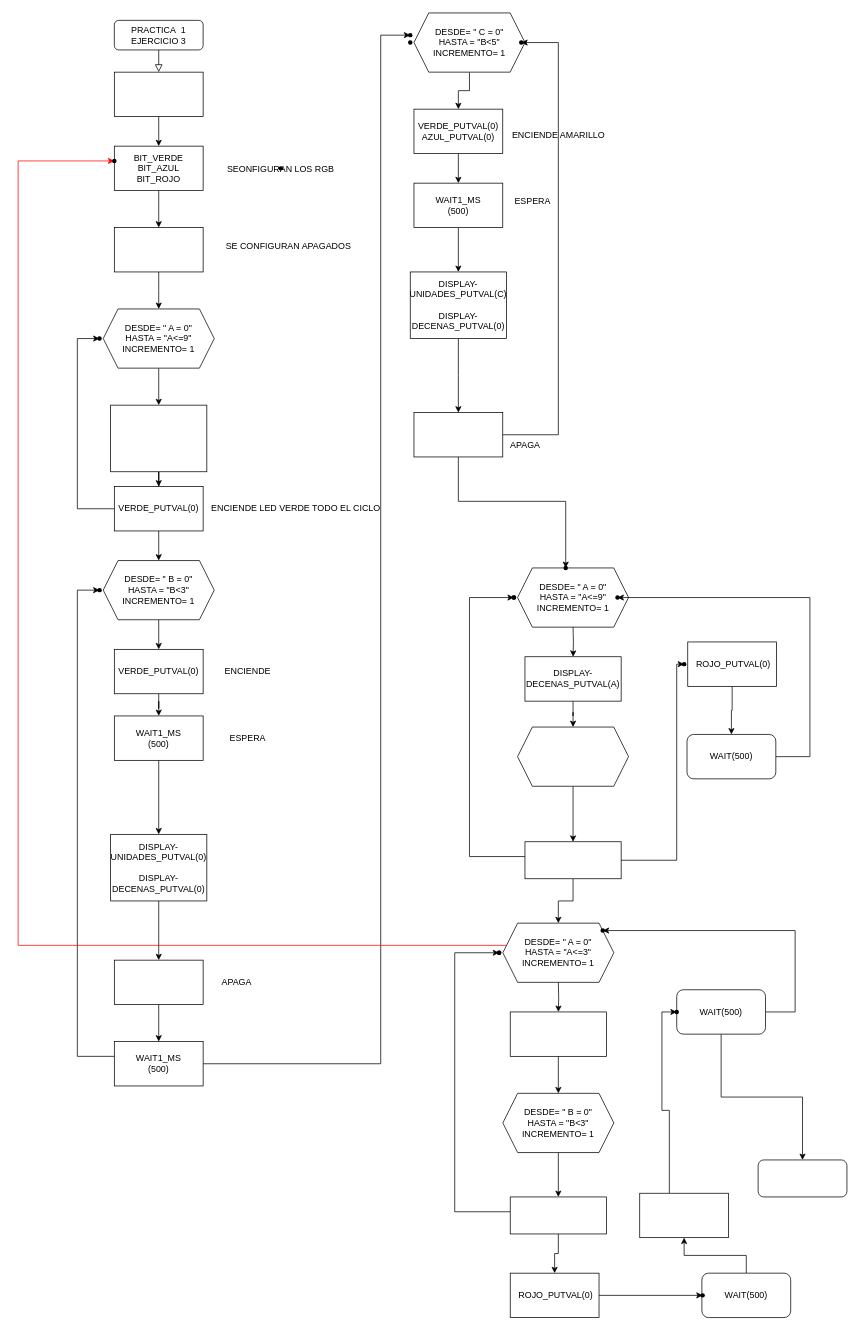
Some shapes in this 860 by 1331 pixel diagram are drawn without their labels. The shapes that lost their labels are listed below. From the top down, each one's centre as x and y in pixels, then its label:
(x=158, y=94): A = 0; B = 0; C = 0; D=0;
(x=158, y=249): BIT_VERDE(1) BIT_AZUL(1) BIT_ROJO(1)
(x=158, y=438): DISPLAY-UNIDADES_PUTVAL(A) DISPLAY-DECENAS_PUTVAL(0)
(x=458, y=434): VERDE_PUTVAL(1) AZUL_PUTVAL(1)
(x=573, y=756): DESDE= " B = 0" HASTA = "B<=9" INCREMENTO= 1
(x=572, y=860): DISPLAY-UNIDADES_PUTVAL(B)
(x=158, y=982): VERDE_PUTVAL(1)
(x=557, y=1033): DISPLAY-DECENAS_PUTVAL(0)
(x=802, y=1178): FIN
(x=557, y=1215): DISPLAY-UNIDADES_PUTVAL(0)
(x=684, y=1215): ROJO_PUTVAL(1)
